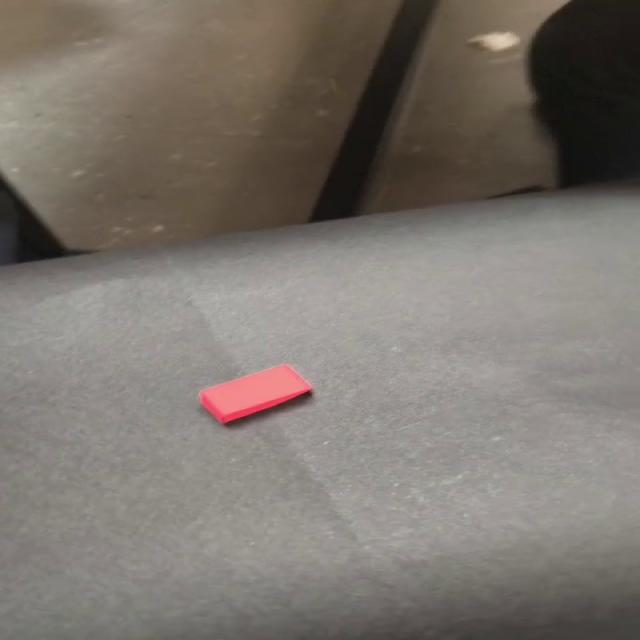red block: (198, 363, 314, 424)
